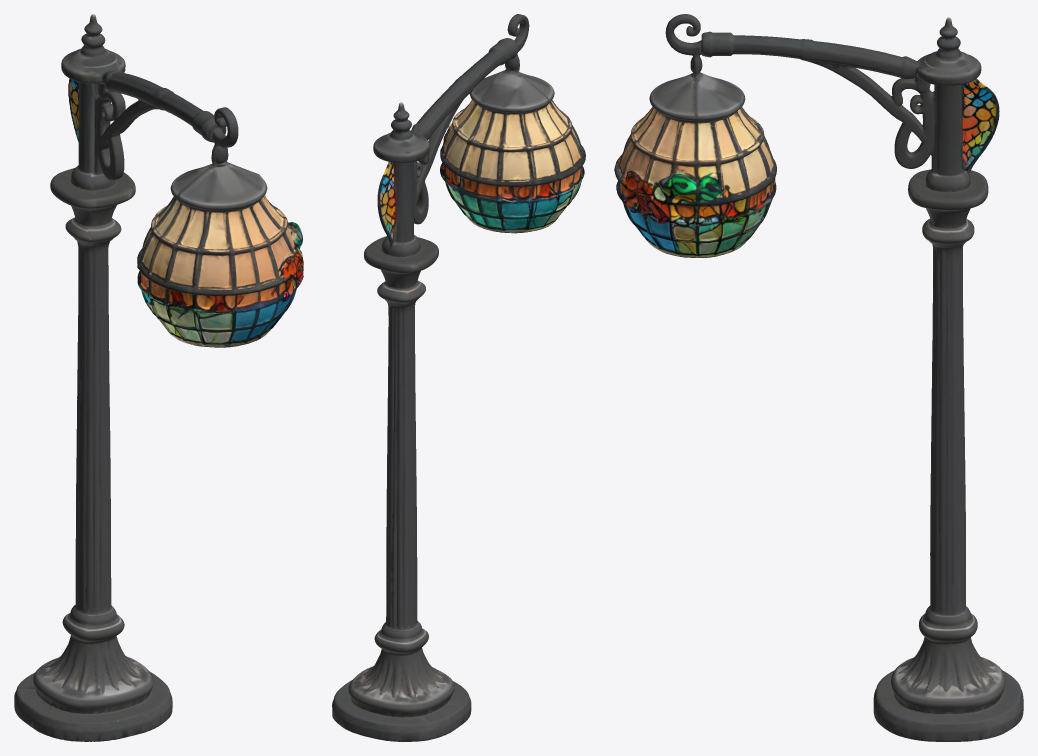
Rendered from plaza-lamp-tiffany.glb.
The picture shows the model from 3 angles, left to right: view 1: azimuth 30°, elevation 25°; view 2: azimuth 150°, elevation 25°; view 3: azimuth 270°, elevation 25°; orthographic projection. The views are drawn at different scales.
Parts seen in each view (by area): view 1: tripo_node_3d211948-5e7e-4f23-a280-af4b31afe108; view 2: tripo_node_3d211948-5e7e-4f23-a280-af4b31afe108; view 3: tripo_node_3d211948-5e7e-4f23-a280-af4b31afe108.
Boxes of the visible parts, x1,y1,x2,y2 form: tripo_node_3d211948-5e7e-4f23-a280-af4b31afe108: (14,14,303,741); tripo_node_3d211948-5e7e-4f23-a280-af4b31afe108: (332,14,585,741); tripo_node_3d211948-5e7e-4f23-a280-af4b31afe108: (614,14,1023,741).
Bounding box in the file's own units: 0.7635 × 3.5 × 1.87.
1 material, 1 textured.
